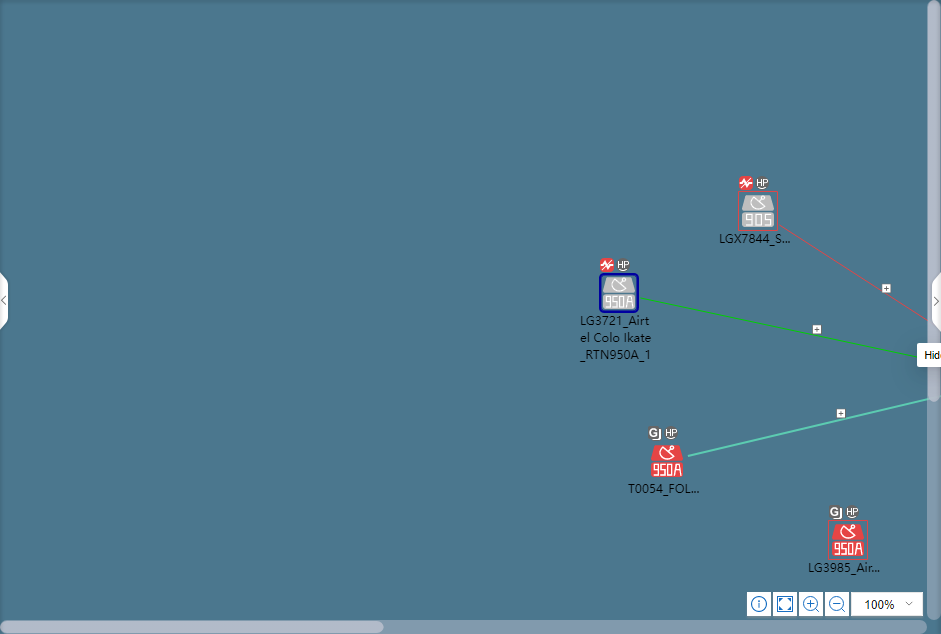Link_Blue: (685, 396, 923, 460)
Link_Green: (644, 296, 919, 357)
Link_Red: (779, 220, 931, 324)
RTN_Gray: (597, 273, 643, 313), (738, 191, 778, 230)
RTN_Red: (826, 520, 866, 560), (650, 443, 684, 476)
